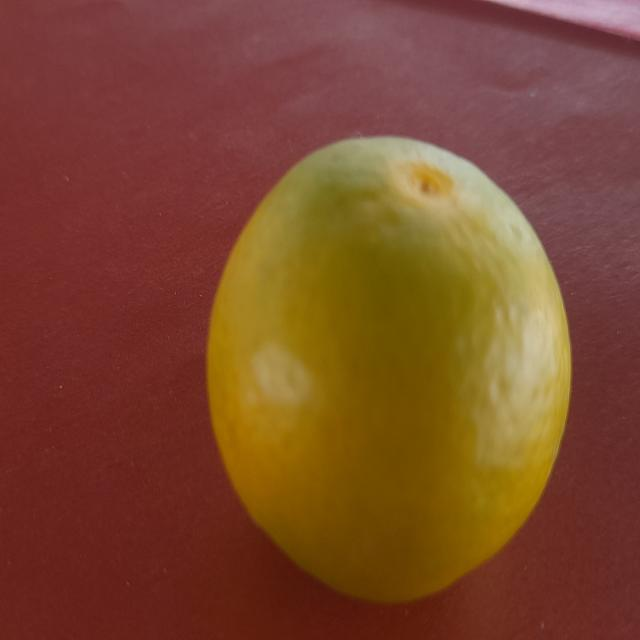greening: (208, 138, 562, 609)
